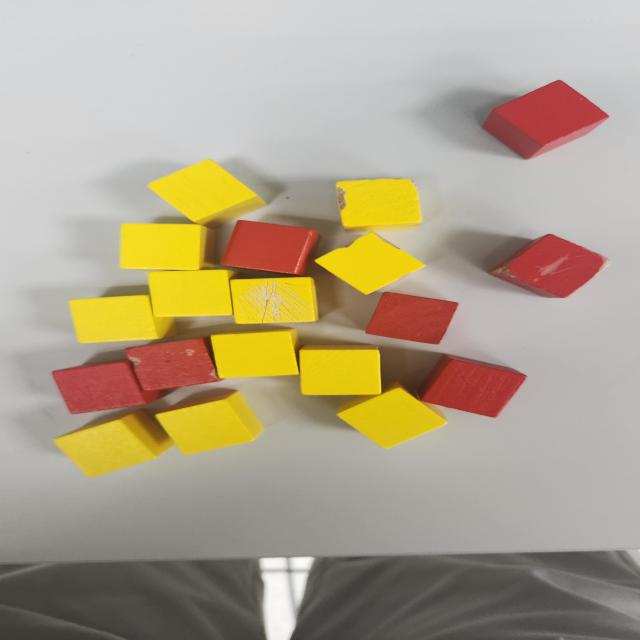broken: (483, 76, 610, 162), (490, 232, 604, 300), (315, 233, 425, 297), (124, 337, 220, 398), (228, 276, 320, 326), (338, 179, 422, 231)
red: (417, 354, 529, 418), (51, 358, 169, 414), (221, 221, 321, 275), (366, 292, 460, 346)
yellow: (54, 410, 176, 480), (147, 159, 267, 227), (339, 386, 450, 451), (153, 391, 264, 455), (67, 294, 181, 343), (206, 328, 304, 380), (116, 222, 212, 271), (147, 269, 236, 318), (298, 348, 382, 396)
